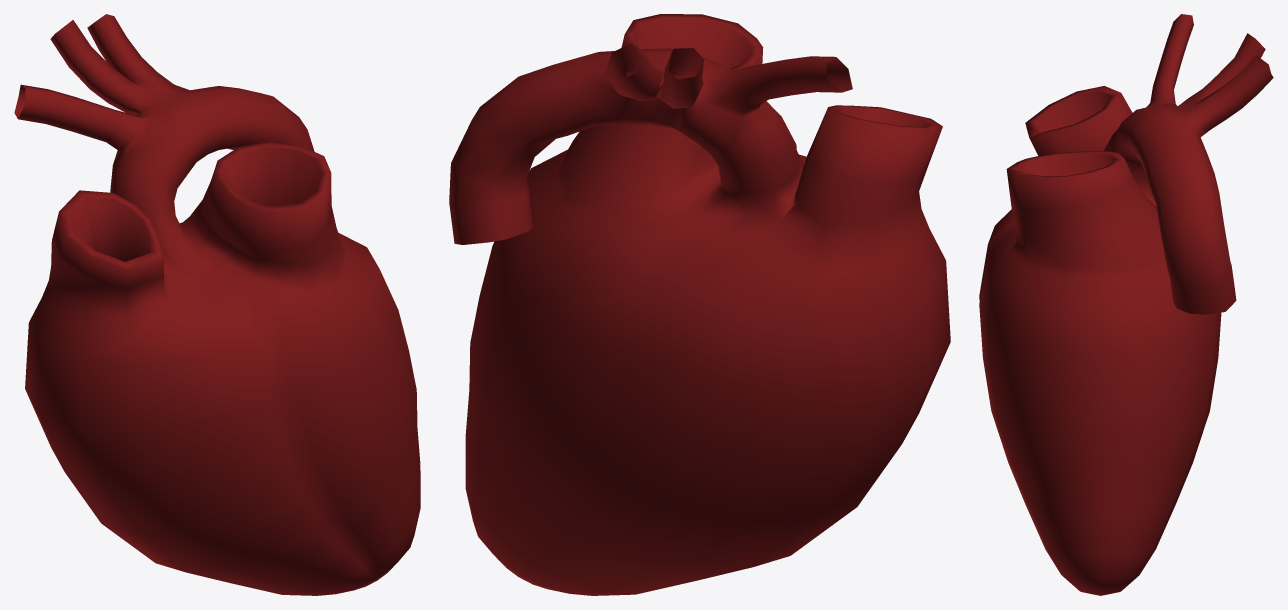
File: heart.obj
3 views of the same model, side by side, from view 1: azimuth 30°, elevation 25°; view 2: azimuth 150°, elevation 25°; view 3: azimuth 270°, elevation 25° (orthographic). The views are drawn at different scales.
Visible parts, largest first — view 1: Sphere; view 2: Sphere; view 3: Sphere.
Part boxes in pixels (left/top/right/bottom): Sphere: left=14, top=14, right=420, bottom=595; Sphere: left=449, top=14, right=950, bottom=595; Sphere: left=979, top=14, right=1273, bottom=595.
Bounding box in the file's own units: 6.58 × 9.18 × 5.15.
